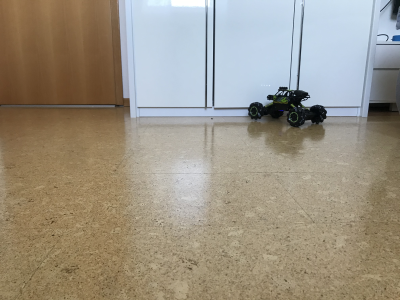remote control car: (246, 85, 330, 128)
